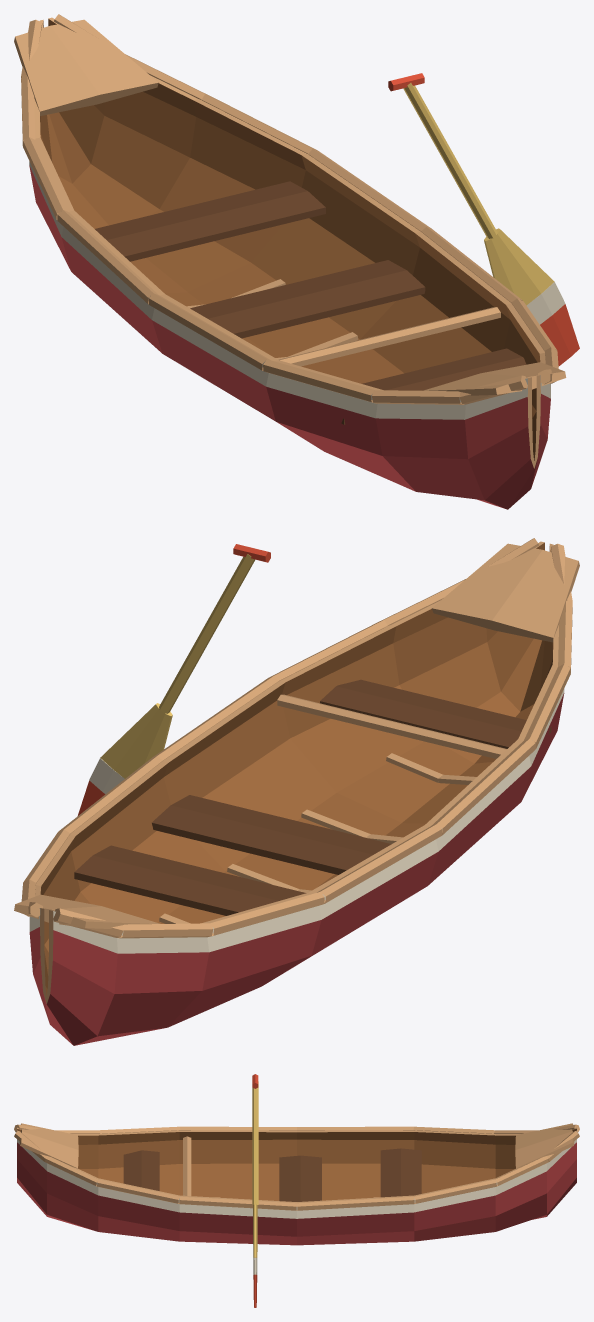
Rendered from canoe.glb.
3 views of the same model, one above another, from view 1: azimuth 30°, elevation 25°; view 2: azimuth 150°, elevation 25°; view 3: azimuth 270°, elevation 25° (orthographic). The views are drawn at different scales.
Visible parts, largest first — view 1: Hull, Paddle; view 2: Hull, Paddle; view 3: Hull, Paddle.
Boxes of the visible parts, <box> form: Hull: <box>14,14,566,509</box>; Paddle: <box>388,73,579,366</box>; Hull: <box>14,538,579,1045</box>; Paddle: <box>78,544,270,815</box>; Hull: <box>14,1123,579,1245</box>; Paddle: <box>252,1074,258,1307</box>.
Size of the model in its own units: 1.38 by 1.11 by 2.99.
